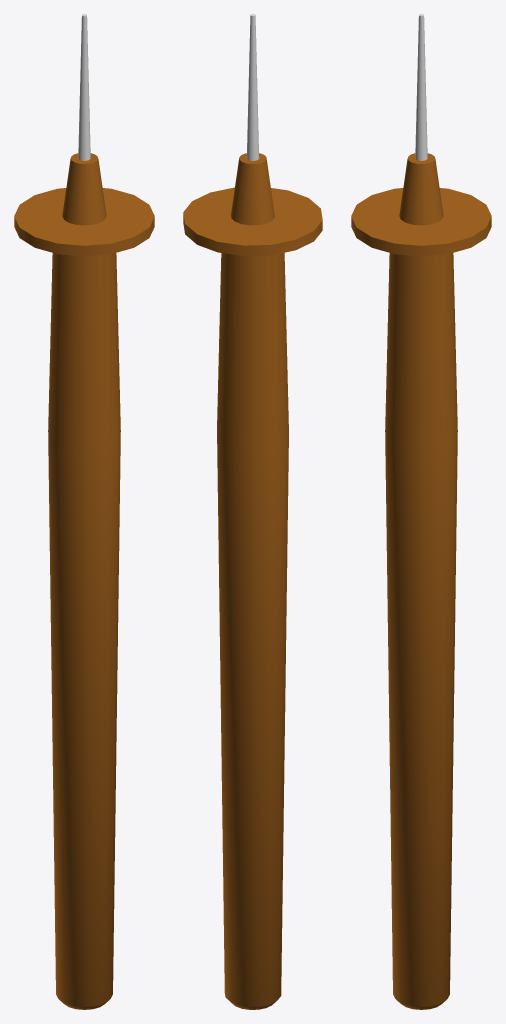
Rendered from Multimetro - Caneta B.fbx.
3 views of the same model, side by side, from view 1: azimuth 90°, elevation 25°; view 2: azimuth 150°, elevation 25°; view 3: azimuth 270°, elevation 25° (orthographic).
Visible parts, largest first — view 1: Cilindro.001; view 2: Cilindro.001; view 3: Cilindro.001.
Boxes of the visible parts, x1,y1,x2,y2 form: Cilindro.001: (14,14,154,1009); Cilindro.001: (183,14,322,1009); Cilindro.001: (351,14,491,1009).
Size of the model in its own units: 47.43 by 367 by 47.43.
